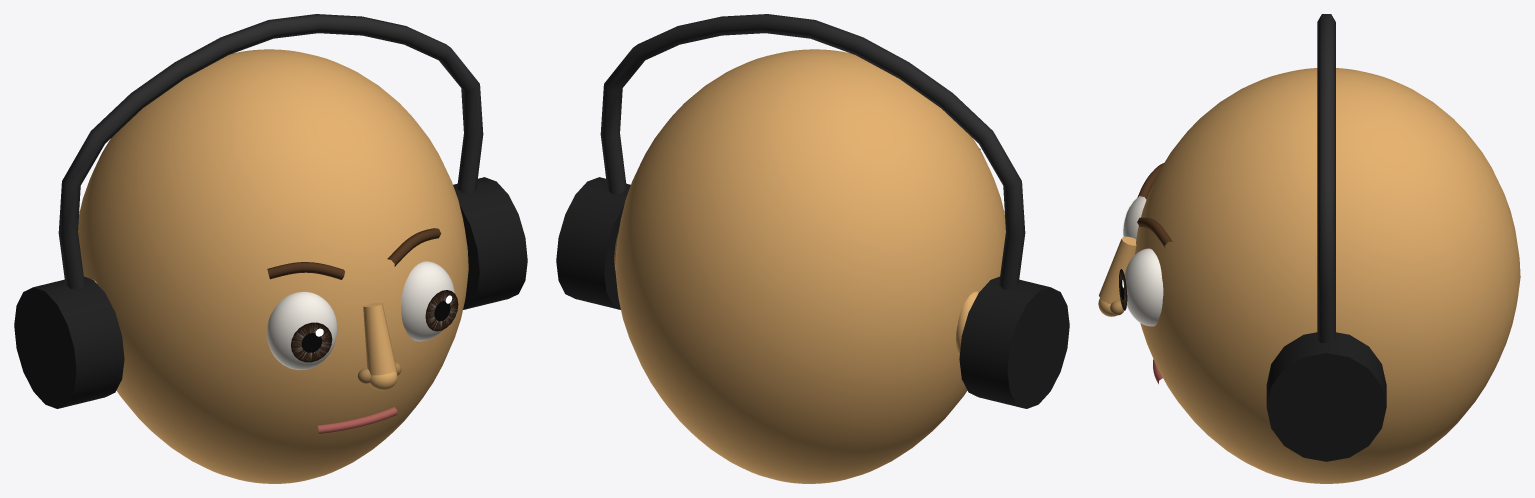
The model's file is 13-casque-audio.glb.
3 views of the same model, side by side, from view 1: azimuth 30°, elevation 25°; view 2: azimuth 150°, elevation 25°; view 3: azimuth 270°, elevation 25° (orthographic). The views are drawn at different scales.
Bounding box in the file's own units: 0.376 × 0.3566 × 0.3166.
Materials: 11 (1 with a texture image).
